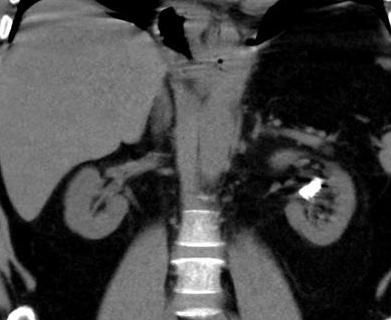Tas_Var: (298, 176, 323, 204), (314, 176, 324, 182)
